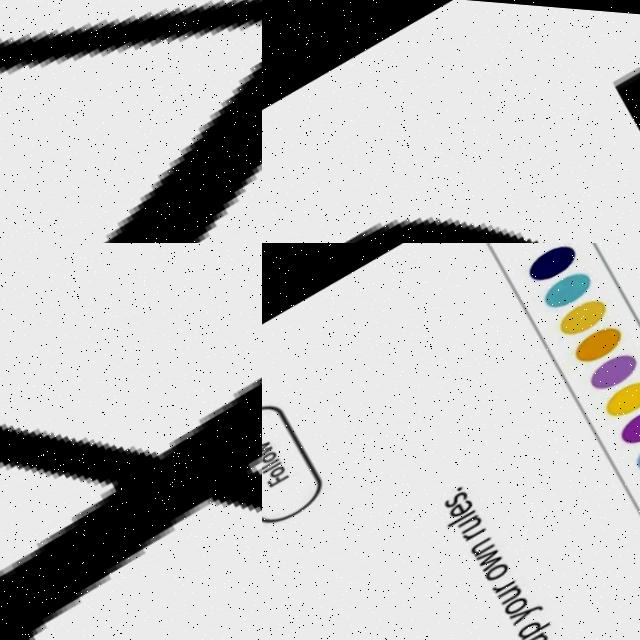2: (262, 13, 640, 243)
E: (452, 491, 480, 516)
F: (272, 466, 297, 488)
L: (453, 502, 483, 525), (266, 458, 287, 474), (265, 454, 286, 470)
N: (475, 527, 505, 554)
O: (509, 586, 540, 613), (490, 552, 520, 579), (264, 447, 284, 464), (273, 461, 292, 478)
P: (525, 606, 560, 636)
R: (467, 516, 493, 538), (498, 568, 523, 590)
S: (448, 482, 477, 507)
U: (505, 575, 533, 600), (463, 507, 490, 529), (532, 623, 559, 640)
V: (0, 0, 262, 243)
W: (482, 539, 513, 568), (262, 436, 279, 456)
X: (0, 243, 262, 640)
Y: (517, 590, 554, 622)
